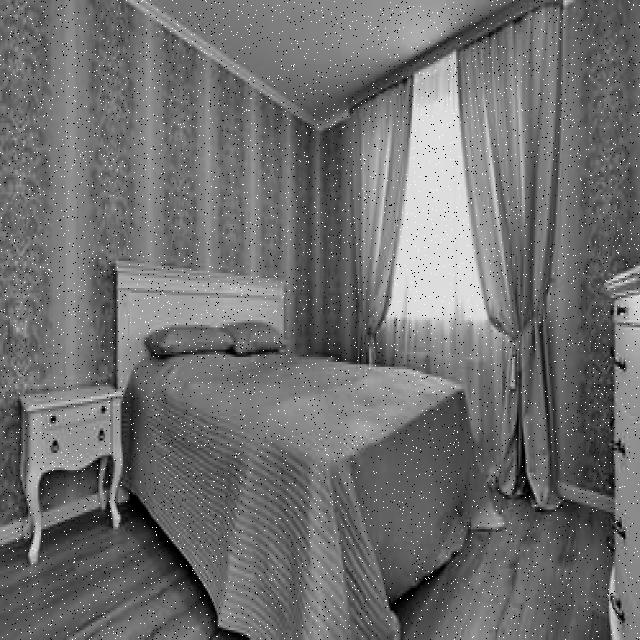bed: (116, 266, 460, 628)
